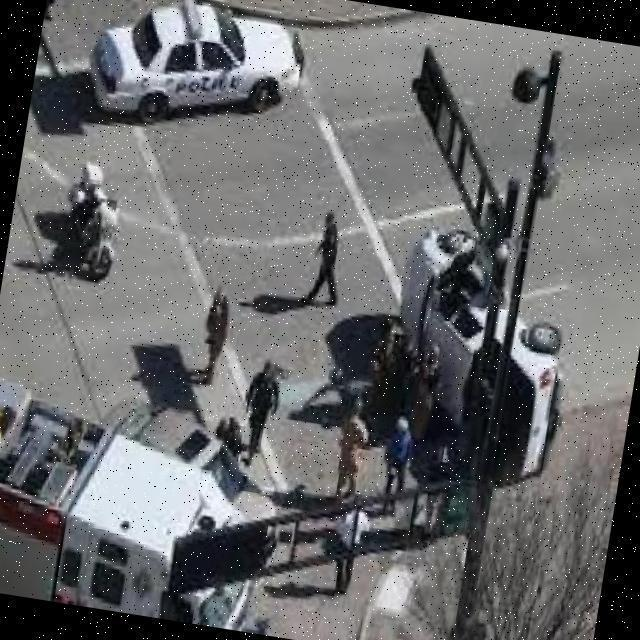accident: (359, 218, 590, 488)
